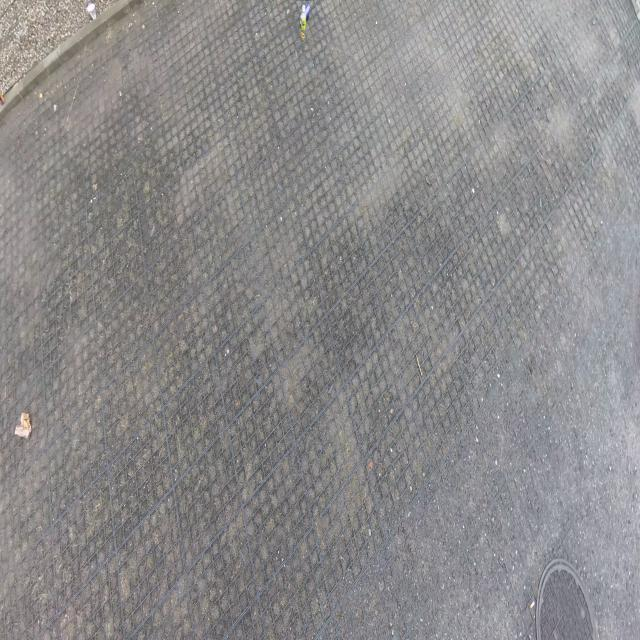rubbish: (14, 412, 33, 442), (299, 4, 311, 25), (301, 3, 306, 38), (87, 5, 96, 19)
